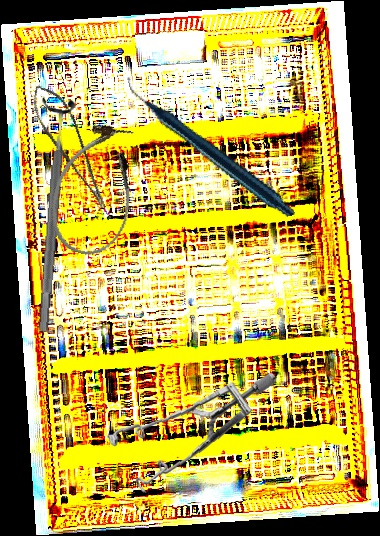Cannula: (40, 115, 151, 264)
Fixation Ring: (24, 97, 78, 333)
Handpiece: (126, 43, 296, 249)
Micro Scissor: (25, 77, 111, 219)
Speculum: (103, 364, 277, 500)
